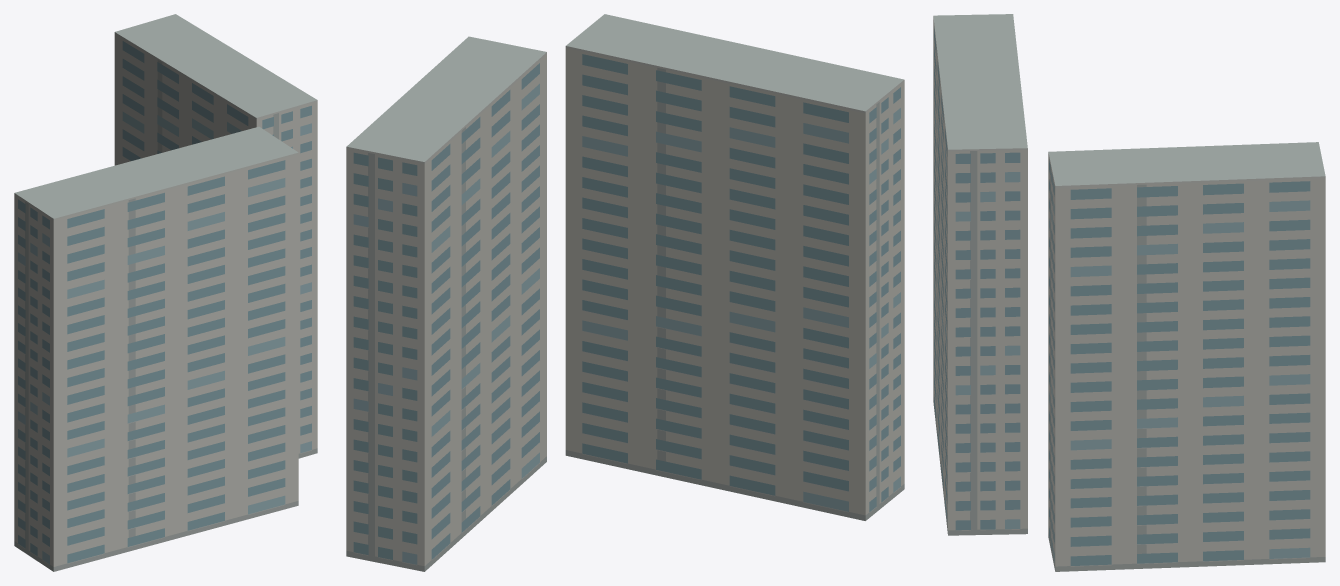
Rendered from residential-58ad885e-f002-4c58-9aa5-d9b00fc63fce.glb.
3 views of the same model, side by side, from view 1: azimuth 30°, elevation 25°; view 2: azimuth 150°, elevation 25°; view 3: azimuth 270°, elevation 25° (orthographic). The views are drawn at different scales.
Visible parts, largest first — view 1: residential-58ad885e-f002-4c58-9aa5-d9b00fc63fce.tmp; view 2: residential-58ad885e-f002-4c58-9aa5-d9b00fc63fce.tmp; view 3: residential-58ad885e-f002-4c58-9aa5-d9b00fc63fce.tmp.
Boxes of the visible parts, x1=… form: residential-58ad885e-f002-4c58-9aa5-d9b00fc63fce.tmp: x1=14, y1=14, x2=317, y2=571; residential-58ad885e-f002-4c58-9aa5-d9b00fc63fce.tmp: x1=346, y1=14, x2=904, y2=571; residential-58ad885e-f002-4c58-9aa5-d9b00fc63fce.tmp: x1=933, y1=14, x2=1325, y2=571.
Bounding box in the file's own units: 51.64 × 54 × 49.75.
